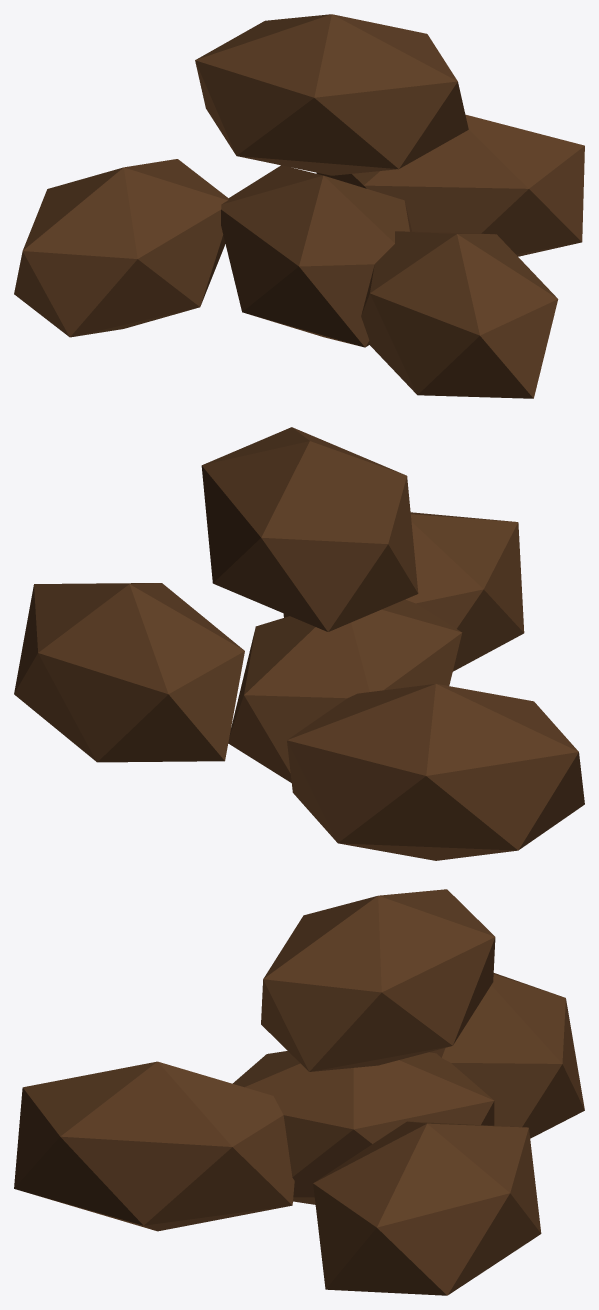
The model's file is coco.glb.
3 views of the same model, one above another, from view 1: azimuth 30°, elevation 25°; view 2: azimuth 150°, elevation 25°; view 3: azimuth 270°, elevation 25° (orthographic). The views are drawn at different scales.
Visible parts, largest first — view 1: bolinha_4, bolinha_2, bolinha_3, bolinha_0, bolinha_1; view 2: bolinha_2, bolinha_1, bolinha_4, bolinha_0, bolinha_3; view 3: bolinha_3, bolinha_4, bolinha_1, bolinha_0, bolinha_2.
Boxes of the visible parts, <box> form: bolinha_4: <box>195,14,468,175</box>; bolinha_2: <box>14,159,228,337</box>; bolinha_3: <box>361,231,558,398</box>; bolinha_0: <box>221,165,411,347</box>; bolinha_1: <box>316,114,584,256</box>; bolinha_2: <box>287,684,584,860</box>; bolinha_1: <box>14,583,244,762</box>; bolinha_4: <box>201,427,418,631</box>; bolinha_0: <box>228,599,462,782</box>; bolinha_3: <box>283,512,524,671</box>; bolinha_3: <box>14,1061,294,1231</box>; bolinha_4: <box>261,889,495,1071</box>; bolinha_1: <box>313,1121,541,1295</box>; bolinha_0: <box>232,1051,494,1204</box>; bolinha_2: <box>429,973,584,1138</box>.
Size of the model in its own units: 0.2624 by 0.1465 by 0.233.
